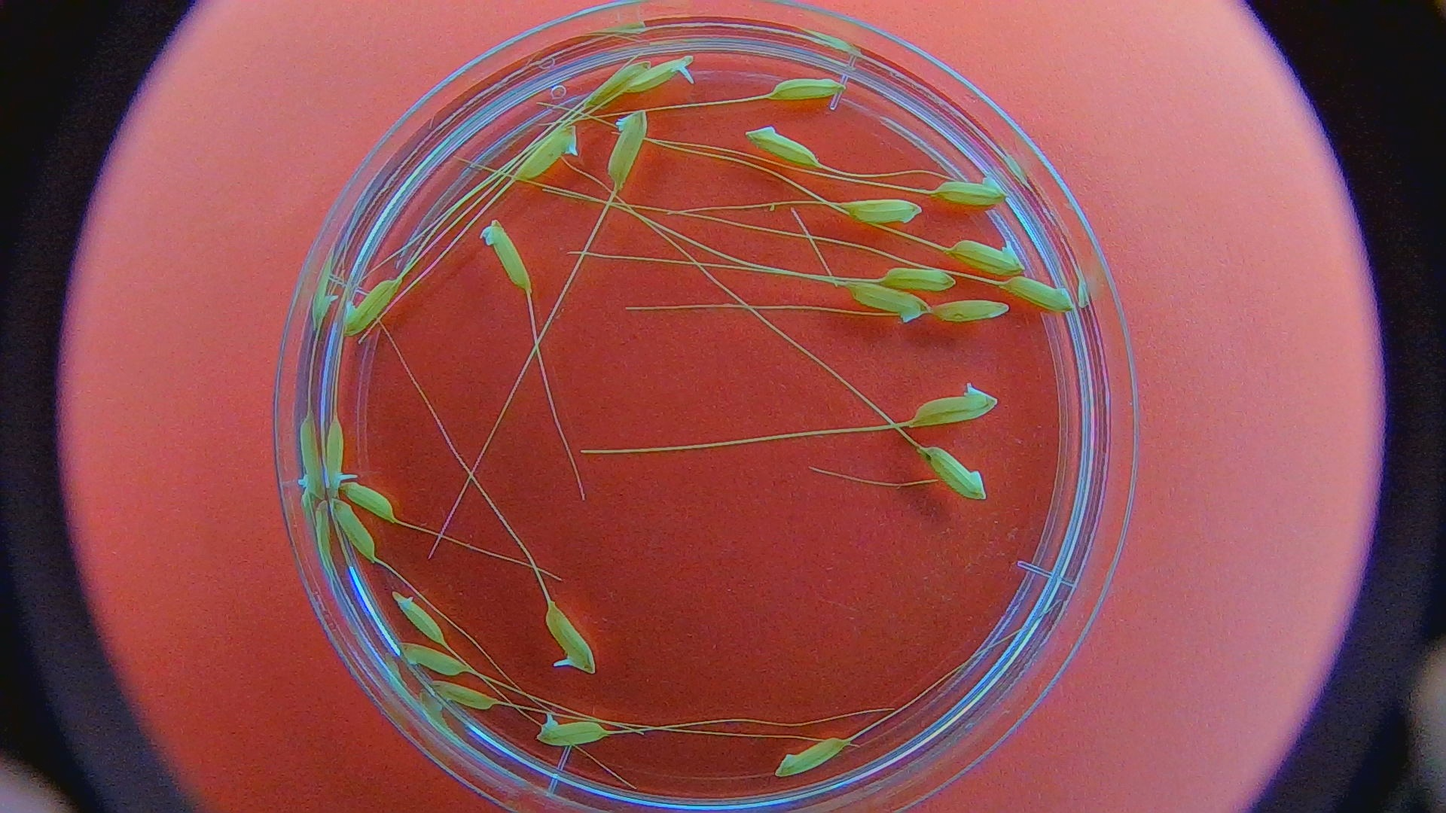no: (480, 217, 537, 293), (919, 440, 988, 502), (512, 124, 582, 184), (910, 381, 998, 427), (340, 276, 401, 338), (937, 233, 1028, 274), (603, 110, 650, 189), (770, 733, 850, 779), (327, 497, 380, 566), (928, 172, 1012, 214), (847, 279, 927, 323), (744, 126, 825, 169), (999, 274, 1078, 318), (580, 61, 648, 112), (389, 586, 445, 646), (337, 480, 399, 528), (424, 676, 499, 714), (395, 640, 469, 676), (764, 74, 844, 104), (928, 297, 1011, 324), (841, 198, 922, 225), (877, 264, 954, 291)
yes: (540, 601, 600, 687), (621, 54, 695, 97), (530, 711, 611, 748), (324, 413, 357, 502)
